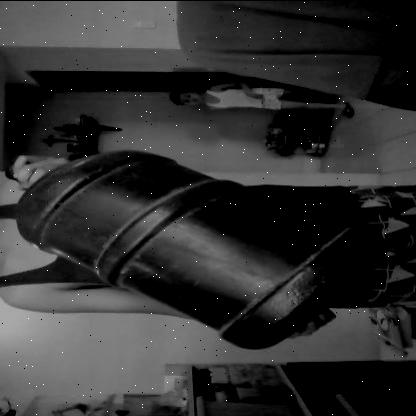Others: (8, 148, 393, 353)
